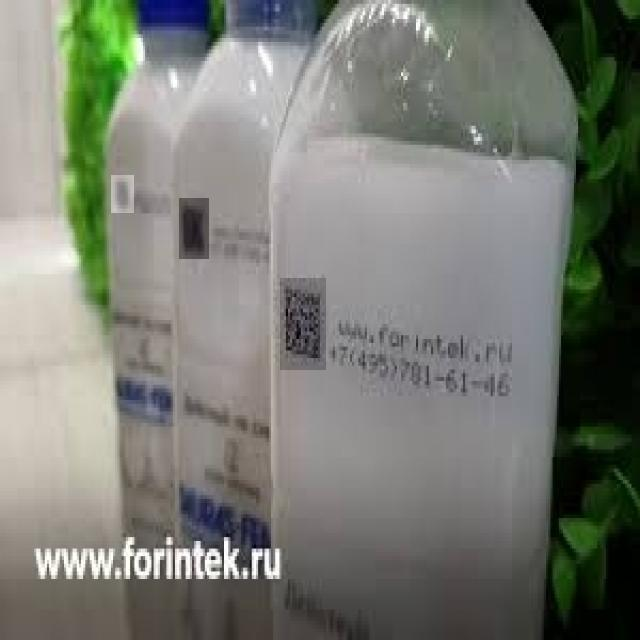Data-Matrix: (280, 278, 326, 370), (179, 198, 209, 259), (111, 176, 134, 214)
